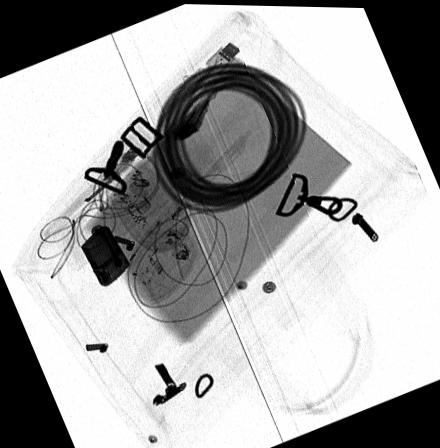Lighter: (79, 226, 130, 287)
